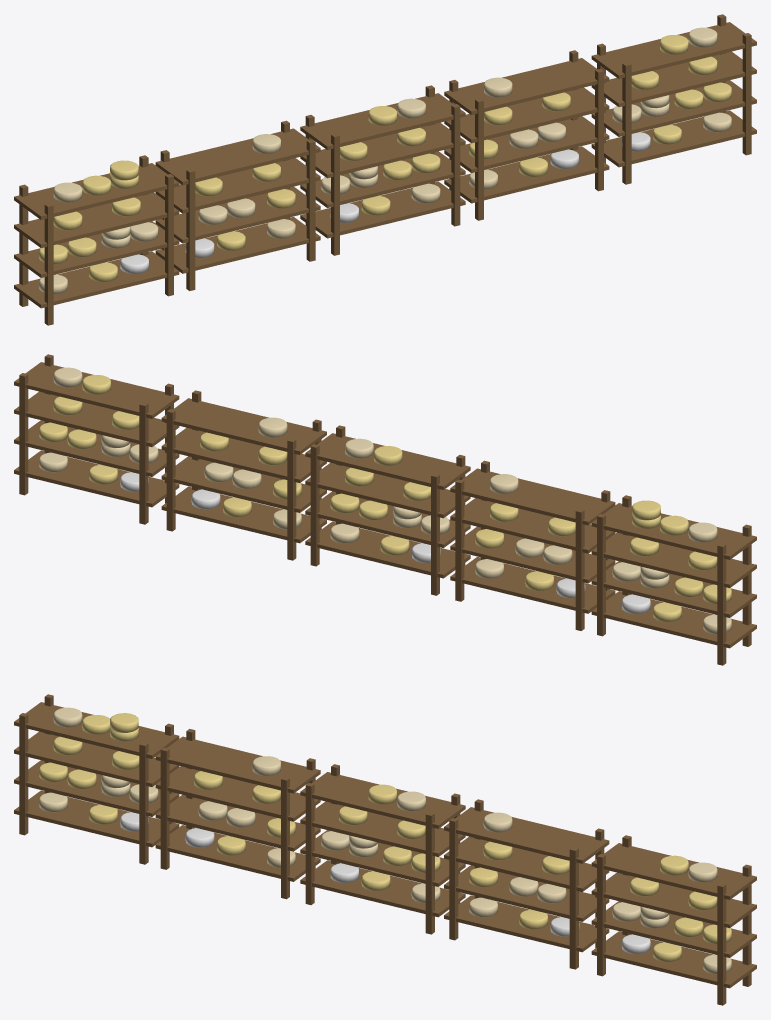
The model's file is cheeserack.fbx.
3 renders of one model, top to bottom at view 1: azimuth 30°, elevation 25°; view 2: azimuth 150°, elevation 25°; view 3: azimuth 330°, elevation 25°, orthographic.
Parts seen in each view (by area): view 1: Rack.002, Rack.036, Rack.001, Cylinder.001, Cylinder.008, Rack.009; view 2: Rack.036, Rack.002, Rack.001, Cylinder.001, Cylinder.008; view 3: Rack.002, Cylinder.001, Cylinder.008, Rack.001, Rack.036, Rack.009.
Boxes of the visible parts, x1,y1,x2,y2 form: Rack.002: [591, 14, 756, 184]; Rack.036: [14, 155, 179, 325]; Rack.001: [300, 85, 465, 255]; Cylinder.001: [444, 50, 609, 220]; Cylinder.008: [155, 120, 320, 290]; Rack.009: [165, 174, 173, 296]; Rack.036: [591, 500, 756, 665]; Rack.002: [14, 354, 179, 524]; Rack.001: [305, 425, 470, 595]; Cylinder.001: [161, 390, 326, 560]; Cylinder.008: [450, 460, 615, 630]; Rack.002: [591, 835, 756, 1005]; Cylinder.001: [444, 799, 609, 969]; Cylinder.008: [155, 729, 320, 899]; Rack.001: [300, 764, 465, 934]; Rack.036: [14, 694, 179, 847]; Rack.009: [139, 742, 148, 864].
Size of the model in its own units: 5736 by 974 by 404.
